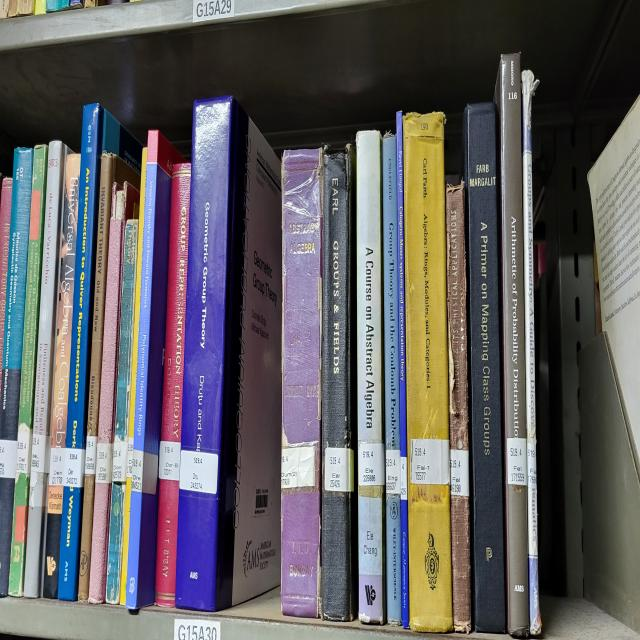Book: (58, 103, 141, 601), (175, 97, 236, 611), (402, 111, 454, 630), (79, 152, 139, 601), (125, 130, 181, 611), (464, 103, 506, 633), (89, 181, 139, 603), (495, 54, 529, 636), (24, 141, 66, 598), (281, 149, 321, 617), (9, 146, 48, 595), (42, 154, 80, 598), (321, 143, 356, 620), (155, 162, 191, 606), (356, 130, 385, 622), (106, 216, 139, 603), (521, 70, 541, 636), (446, 181, 471, 633), (382, 133, 401, 625), (396, 111, 410, 628)
Label: (179, 449, 219, 495), (410, 438, 450, 484), (325, 446, 354, 492), (131, 449, 159, 495), (359, 441, 385, 487), (506, 438, 528, 484), (62, 446, 85, 487), (450, 449, 469, 498), (159, 441, 180, 482), (95, 441, 114, 484), (281, 446, 300, 487), (31, 433, 50, 473), (385, 449, 401, 495), (16, 427, 31, 476), (112, 438, 128, 482), (49, 446, 65, 487), (85, 436, 98, 473), (400, 457, 408, 501)
